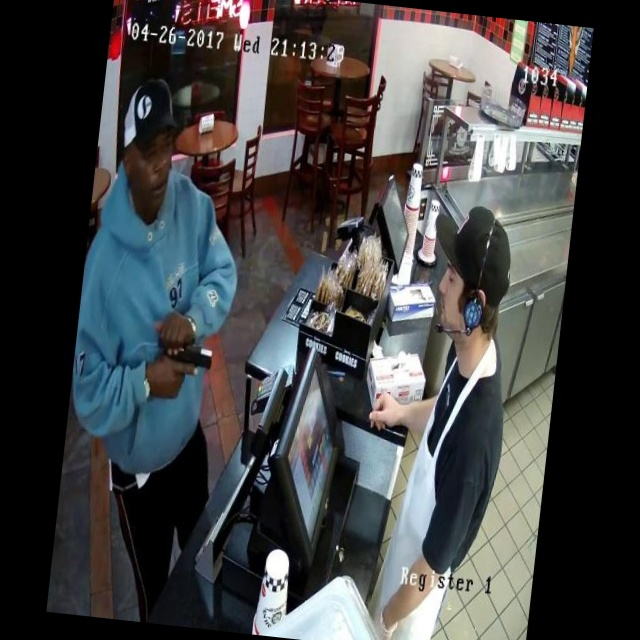gun: (143, 310, 225, 392)
